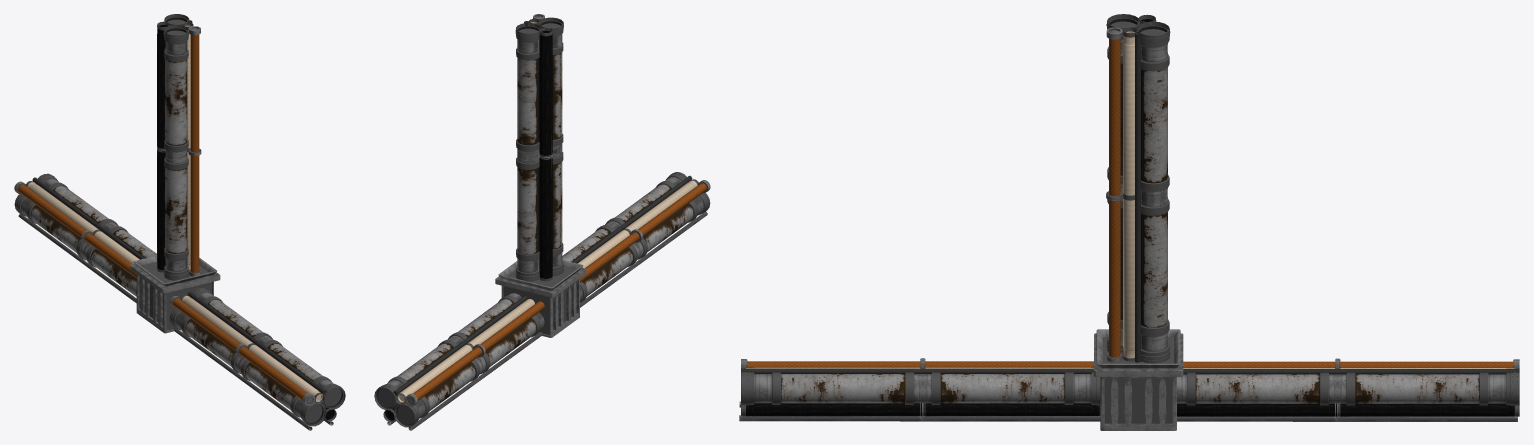
The model's file is Sci-Fi PipelineT.fbx.
3 views of the same model, side by side, from view 1: azimuth 30°, elevation 25°; view 2: azimuth 150°, elevation 25°; view 3: azimuth 270°, elevation 25° (orthographic). The views are drawn at different scales.
Visible parts, largest first — view 1: PipeLine.006, PipeLine.003, PipeLine.004, SectionT.001, Foundation.007, Foundation.009; view 2: PipeLine.006, PipeLine.004, PipeLine.003, SectionT.001, Foundation.009, Foundation.007; view 3: PipeLine.006, PipeLine.003, PipeLine.004, SectionT.001, Foundation.006, Foundation.008.
Boxes of the visible parts, left/top/right/bottom form: PipeLine.006: left=157, top=14, right=201, bottom=280; PipeLine.003: left=169, top=287, right=345, bottom=426; PipeLine.004: left=14, top=173, right=156, bottom=296; SectionT.001: left=130, top=255, right=220, bottom=333; Foundation.007: left=174, top=327, right=312, bottom=430; Foundation.009: left=18, top=214, right=136, bottom=303; PipeLine.006: left=515, top=14, right=563, bottom=281; PipeLine.004: left=374, top=293, right=544, bottom=427; PipeLine.003: left=562, top=172, right=710, bottom=302; SectionT.001: left=495, top=260, right=586, bottom=337; Foundation.009: left=408, top=332, right=542, bottom=430; Foundation.007: left=580, top=212, right=707, bottom=307; PipeLine.006: left=1106, top=14, right=1170, bottom=363; PipeLine.003: left=741, top=358, right=1100, bottom=416; PipeLine.004: left=1177, top=358, right=1519, bottom=416; SectionT.001: left=1094, top=329, right=1183, bottom=430; Foundation.006: left=739, top=415, right=1100, bottom=421; Foundation.008: left=1177, top=416, right=1517, bottom=421.
Bounding box in the file's own units: 302 × 1465 × 2639.
